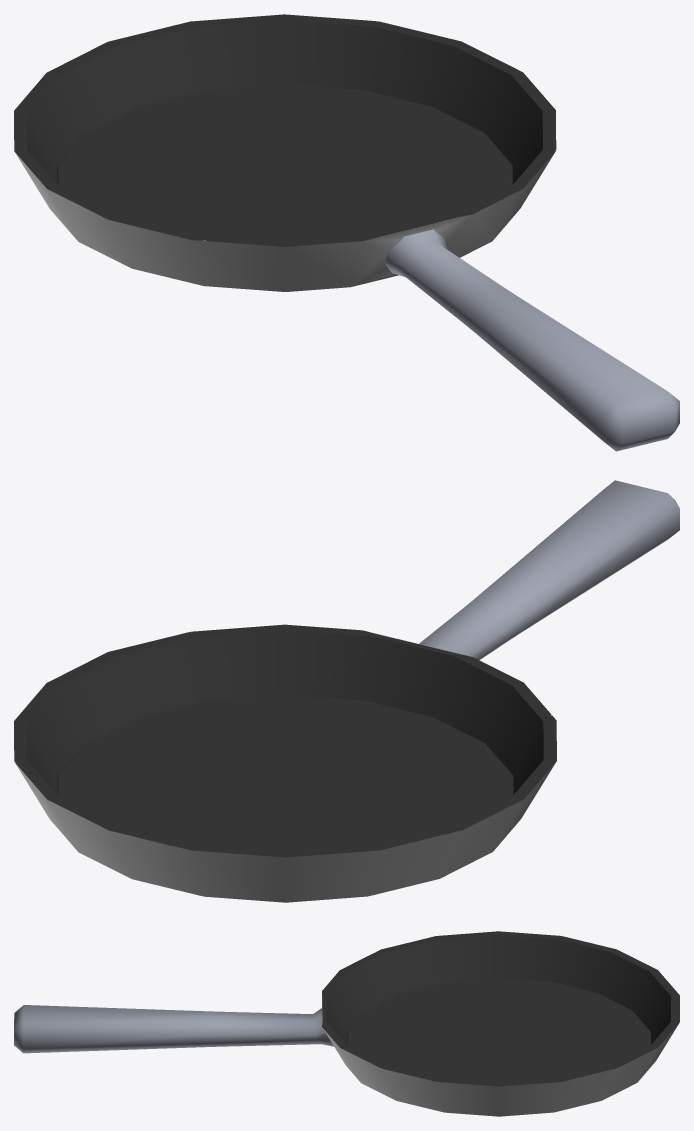
Rendered from frypan.fbx.
3 views of the same model, one above another, from view 1: azimuth 30°, elevation 25°; view 2: azimuth 150°, elevation 25°; view 3: azimuth 270°, elevation 25° (orthographic). The views are drawn at different scales.
Parts seen in each view (by area): view 1: frypan; view 2: frypan; view 3: frypan.
Boxes of the visible parts, x1,y1,x2,y2 form: frypan: (14, 14, 679, 451); frypan: (14, 480, 679, 902); frypan: (14, 931, 679, 1116).
Bounding box in the file's own units: 66.94 × 8.28 × 121.
